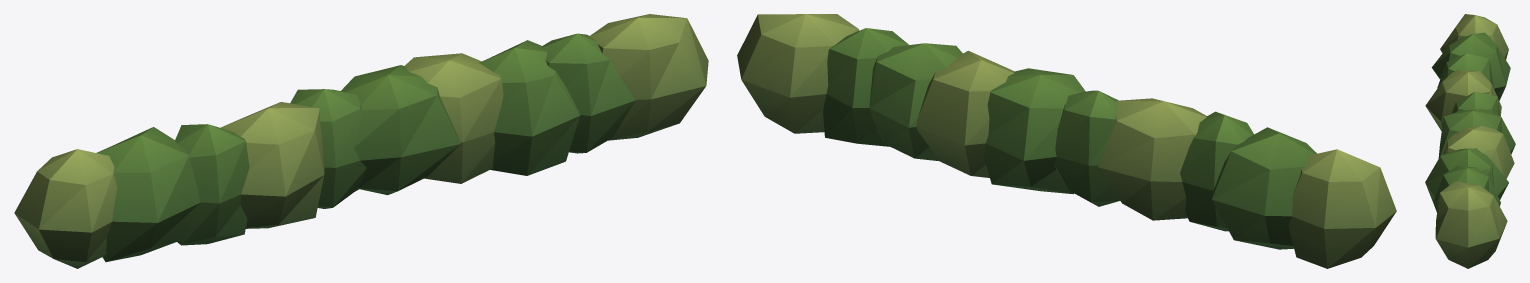
The model's file is scene_hedge_2.glb.
3 renders of one model, left to right at view 1: azimuth 30°, elevation 25°; view 2: azimuth 150°, elevation 25°; view 3: azimuth 270°, elevation 25°, orthographic. The views are drawn at different scales.
Visible parts, largest first — view 1: scene_hedge_2; view 2: scene_hedge_2; view 3: scene_hedge_2.
Part boxes in pixels (x1=…): scene_hedge_2: x1=14, y1=14, x2=708, y2=268; scene_hedge_2: x1=737, y1=14, x2=1396, y2=268; scene_hedge_2: x1=1425, y1=14, x2=1515, y2=268.
Size of the model in its own units: 6.59 by 1.12 by 1.2.
